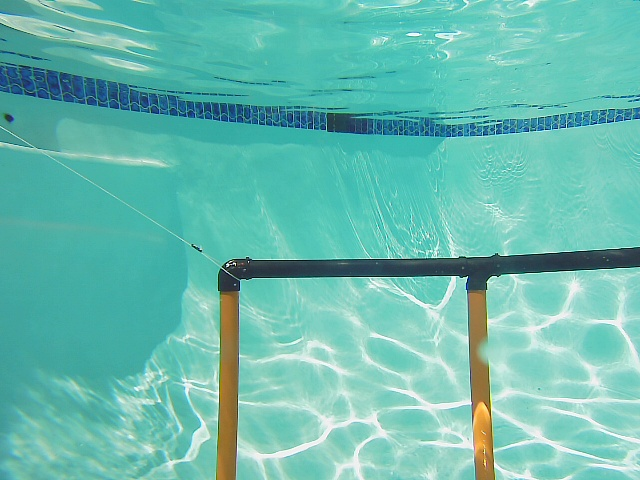Gate: (462, 283, 500, 480), (211, 281, 245, 480)
